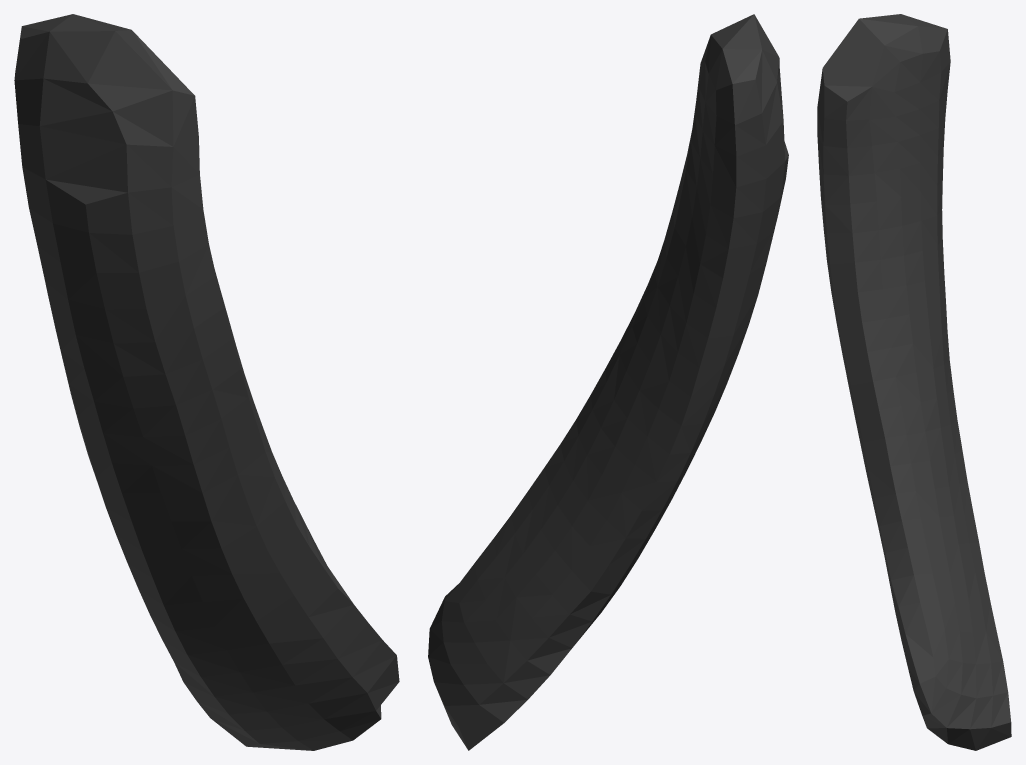
The model's file is scutulo_deep.glb.
The picture shows the model from 3 angles, left to right: view 1: azimuth 30°, elevation 25°; view 2: azimuth 150°, elevation 25°; view 3: azimuth 270°, elevation 25°; orthographic projection. The views are drawn at different scales.
Parts seen in each view (by area): view 1: scutulo_deep; view 2: scutulo_deep; view 3: scutulo_deep.
Boxes of the visible parts, x1,y1,x2,y2 form: scutulo_deep: (14,14,399,750); scutulo_deep: (428,14,788,750); scutulo_deep: (817,14,1011,750).
Size of the model in its own units: 0.1001 by 0.2089 by 0.058.
1 material, 1 textured.
